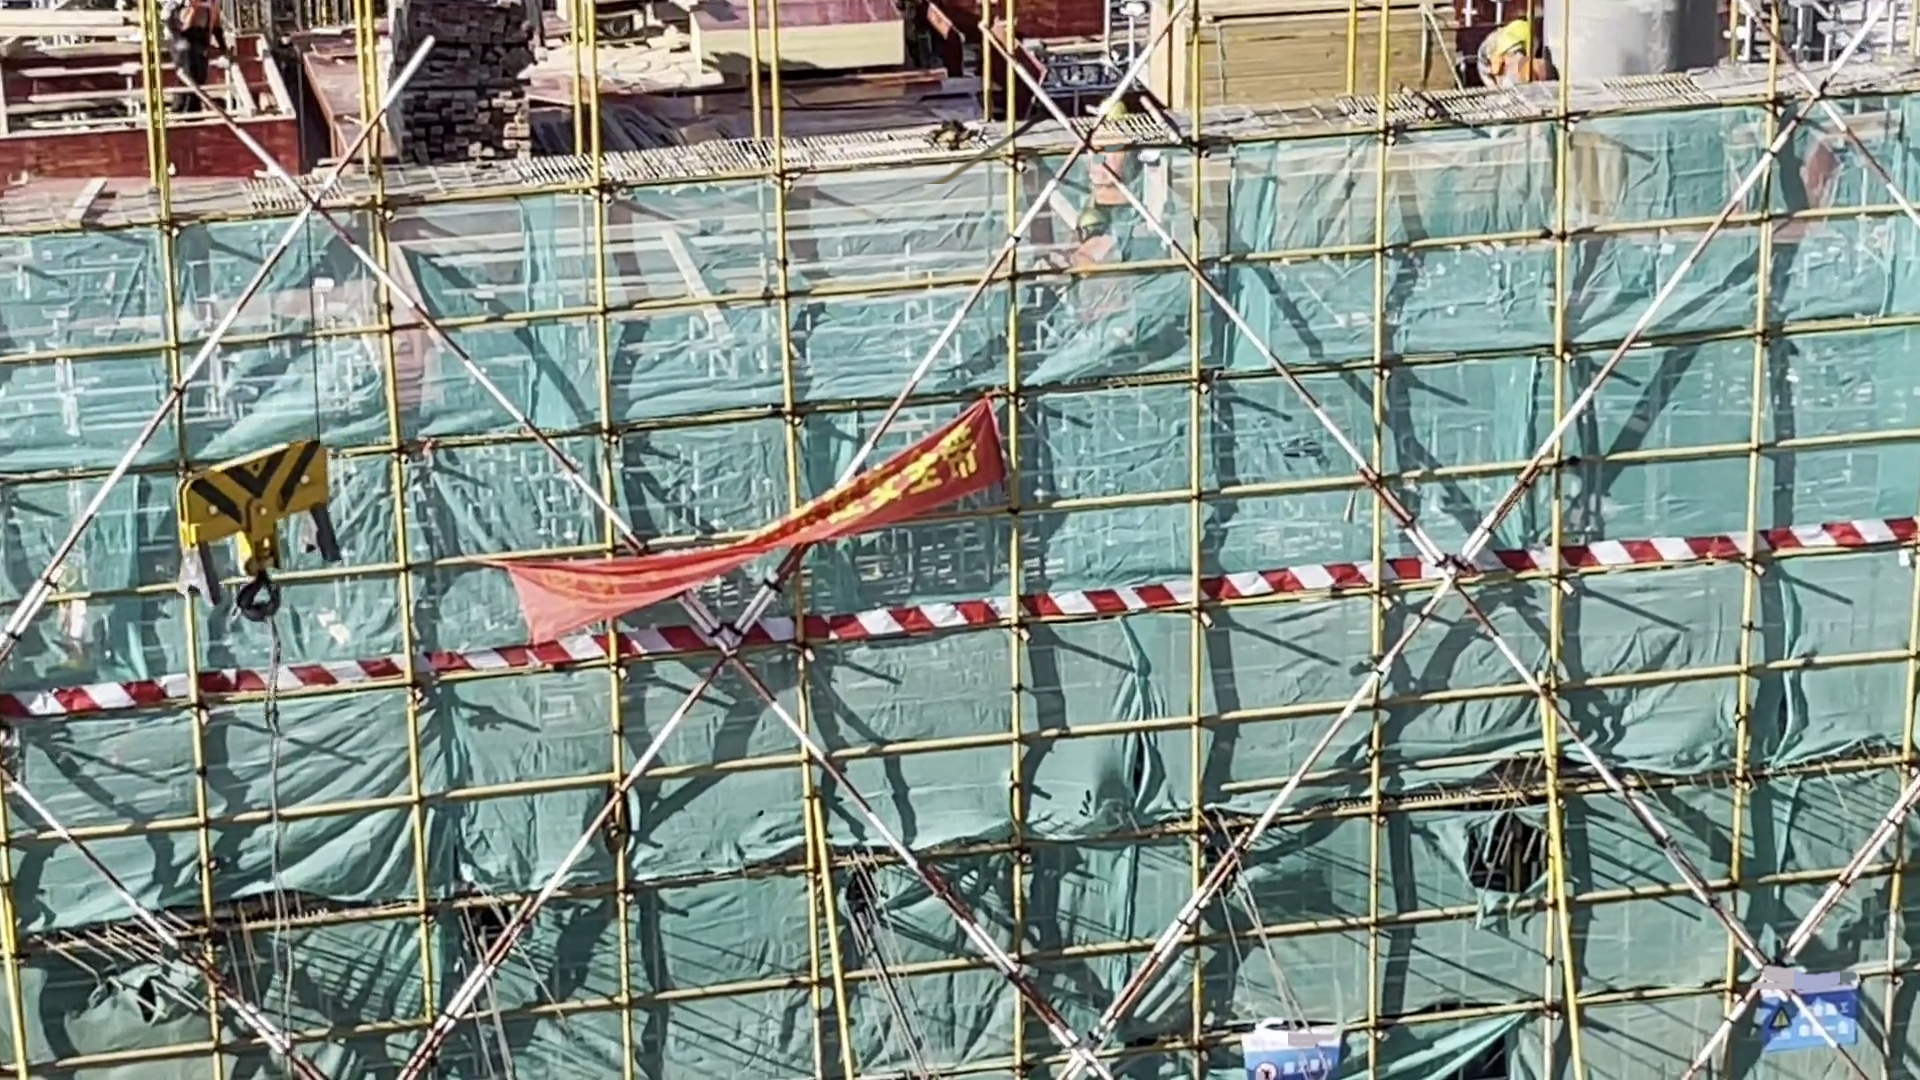slogan: (500, 393, 1004, 678)
wood: (1139, 4, 1466, 102), (380, 11, 550, 167)
